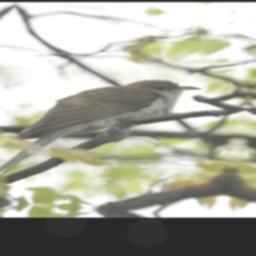Cuckoo: (0, 69, 202, 194)
